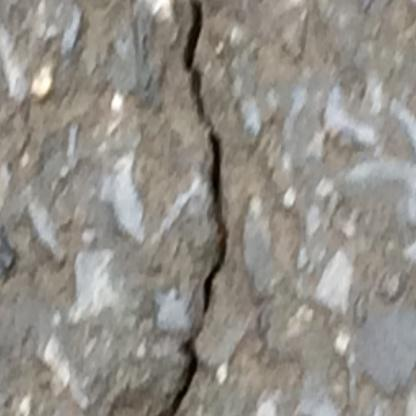Cracks: (144, 0, 234, 416)
